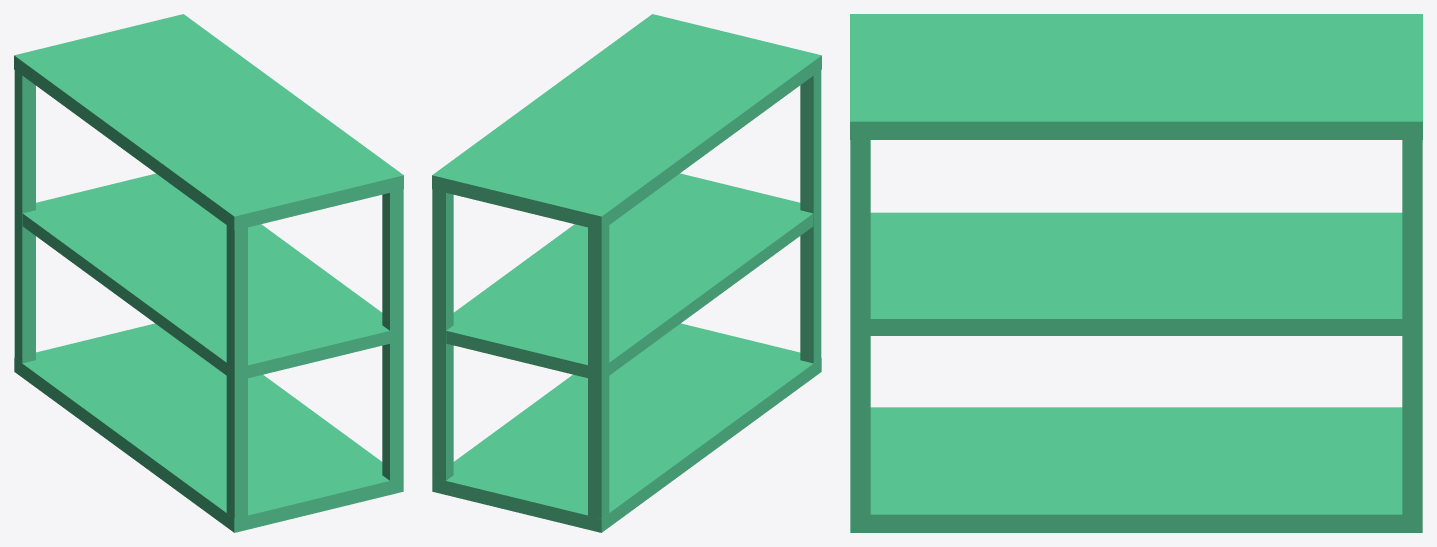
The model's file is SM_Shelf.fbx.
3 renders of one model, left to right at view 1: azimuth 30°, elevation 25°; view 2: azimuth 150°, elevation 25°; view 3: azimuth 270°, elevation 25°, orthographic. The views are drawn at different scales.
Parts seen in each view (by area): view 1: shelf_001; view 2: shelf_001; view 3: shelf_001.
Boxes of the visible parts, x1,y1,x2,y2 form: shelf_001: (14,14,403,532); shelf_001: (432,14,821,532); shelf_001: (850,14,1422,532).
Size of the model in its own units: 25.07 by 44.74 by 56.45.
